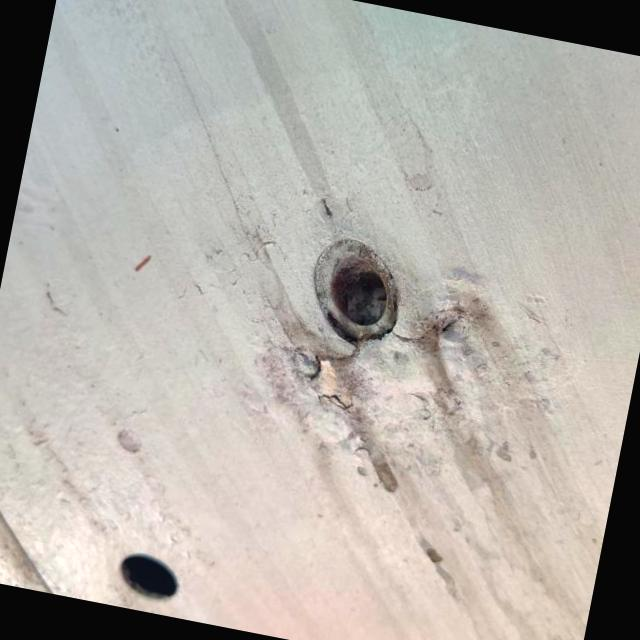crack: (276, 326, 378, 420)
